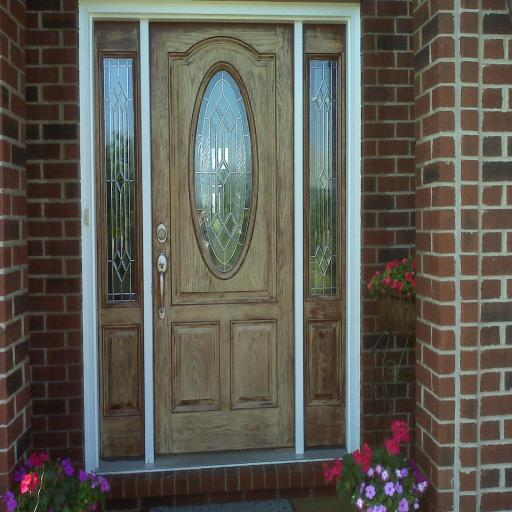Door: (149, 20, 295, 455)
